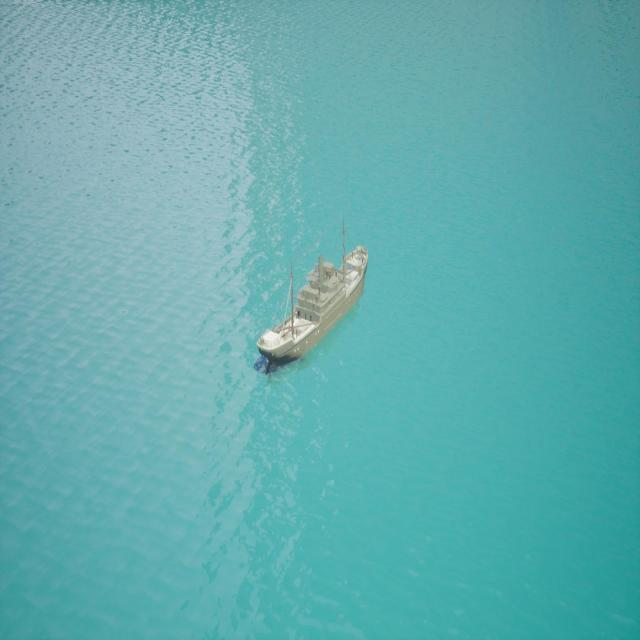fishing ship: (255, 249, 370, 374)
